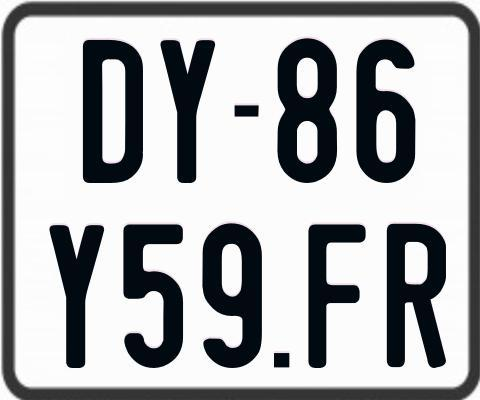5: (121, 221, 182, 365)
6: (355, 39, 416, 188)
8: (275, 36, 336, 186)
9: (199, 222, 264, 371)
D: (83, 38, 147, 185)
F: (306, 221, 370, 370)
R: (385, 224, 448, 369)
Y: (158, 39, 216, 184), (49, 222, 107, 367)
